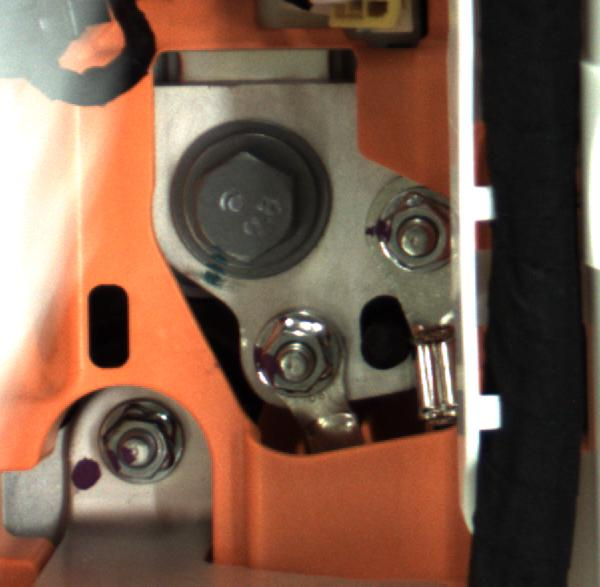nut_b: (158, 125, 320, 260)
screw_s: (93, 393, 193, 497), (246, 312, 355, 406), (362, 189, 455, 267)
